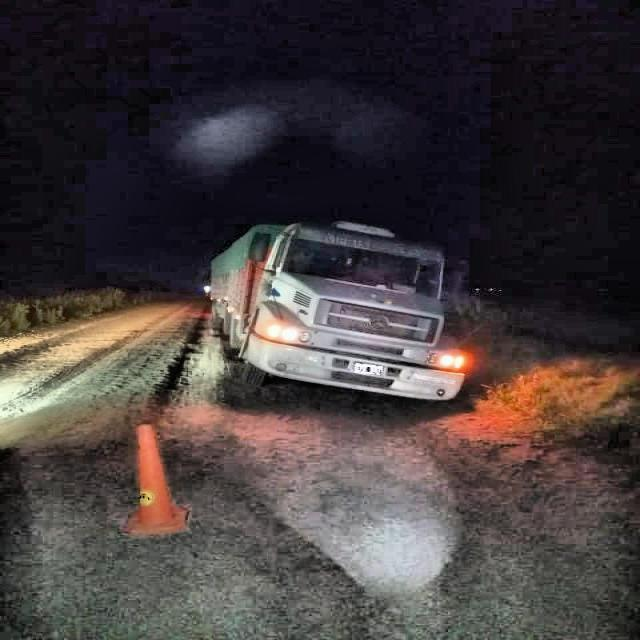dump_truck: (194, 211, 471, 409)
